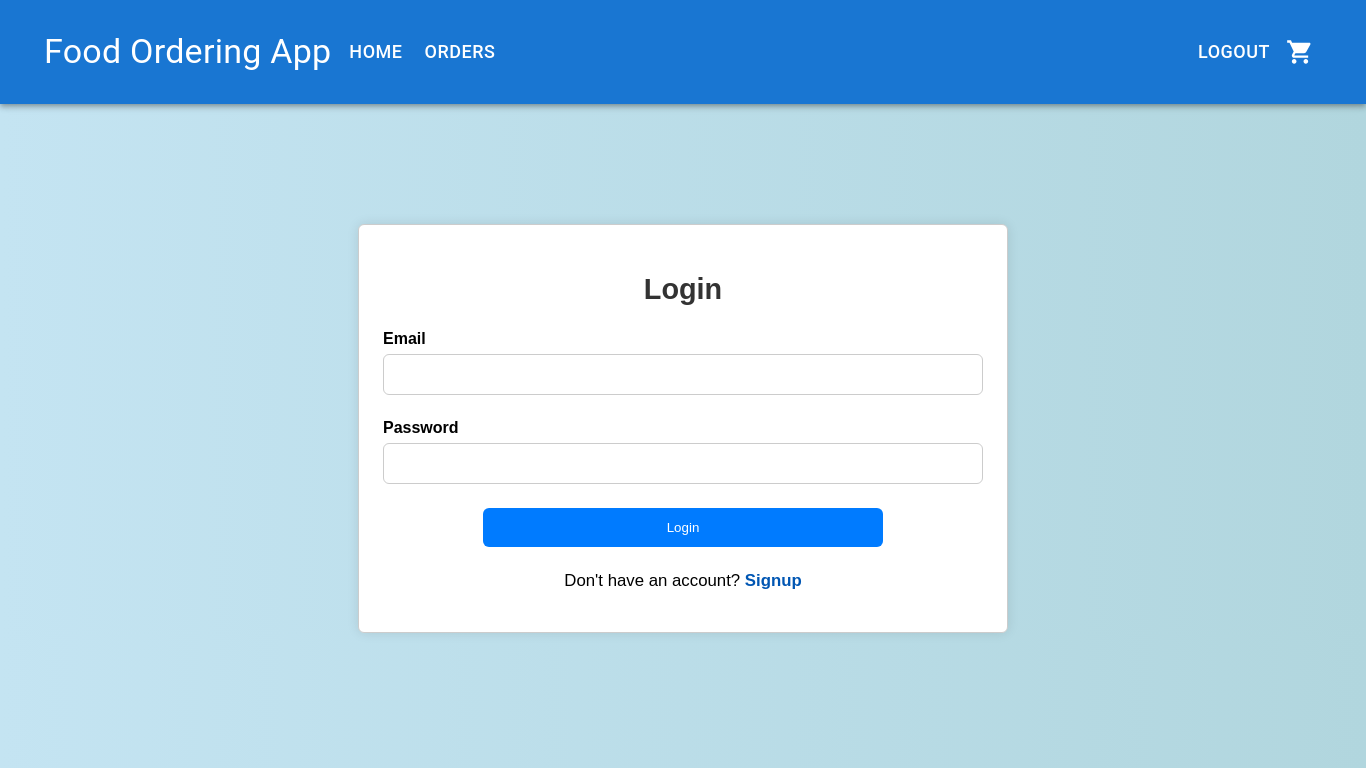
it: Login Component › displays an error message for server error
In the field with test id "email-input": (683, 374) 383,354 -> 983,395, type "test@example.com"
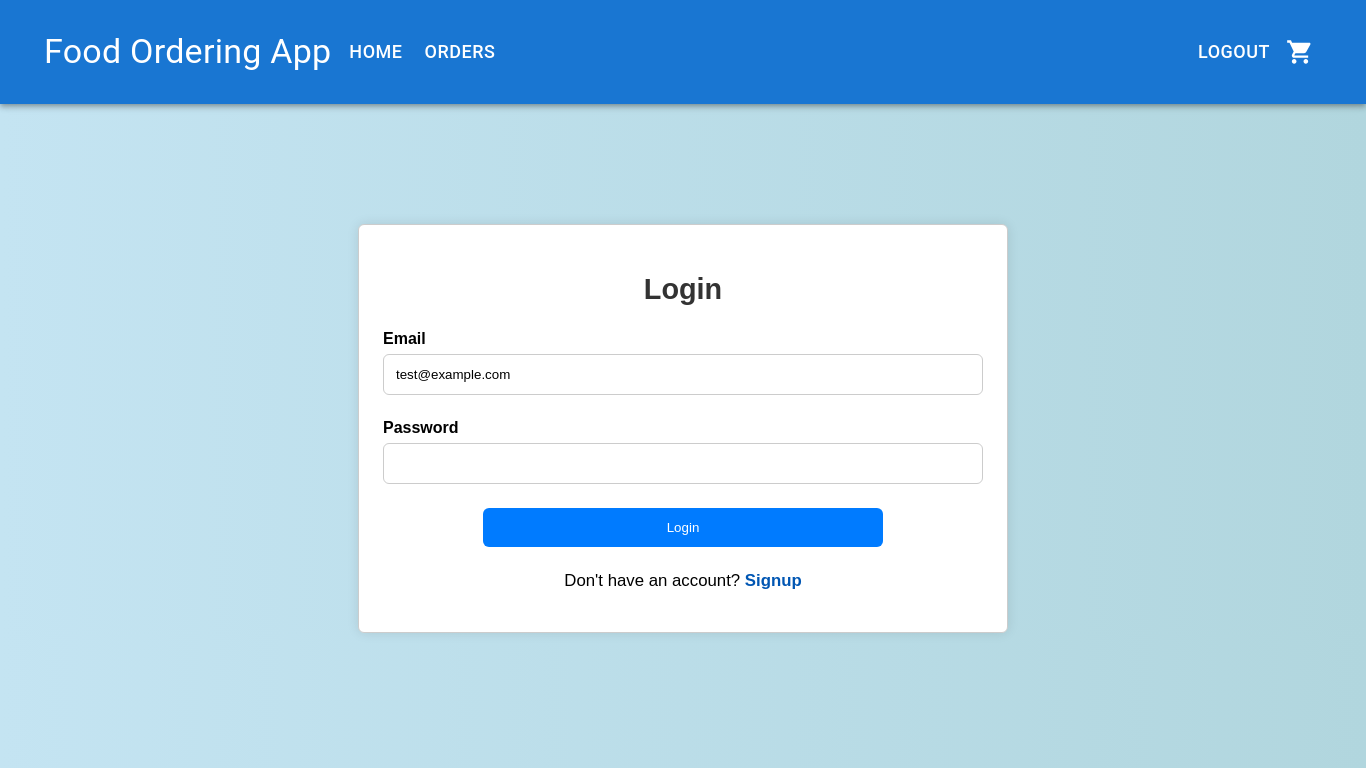
In the password field with test id "password-input": (683, 463) 383,443 -> 983,484, type "password123"
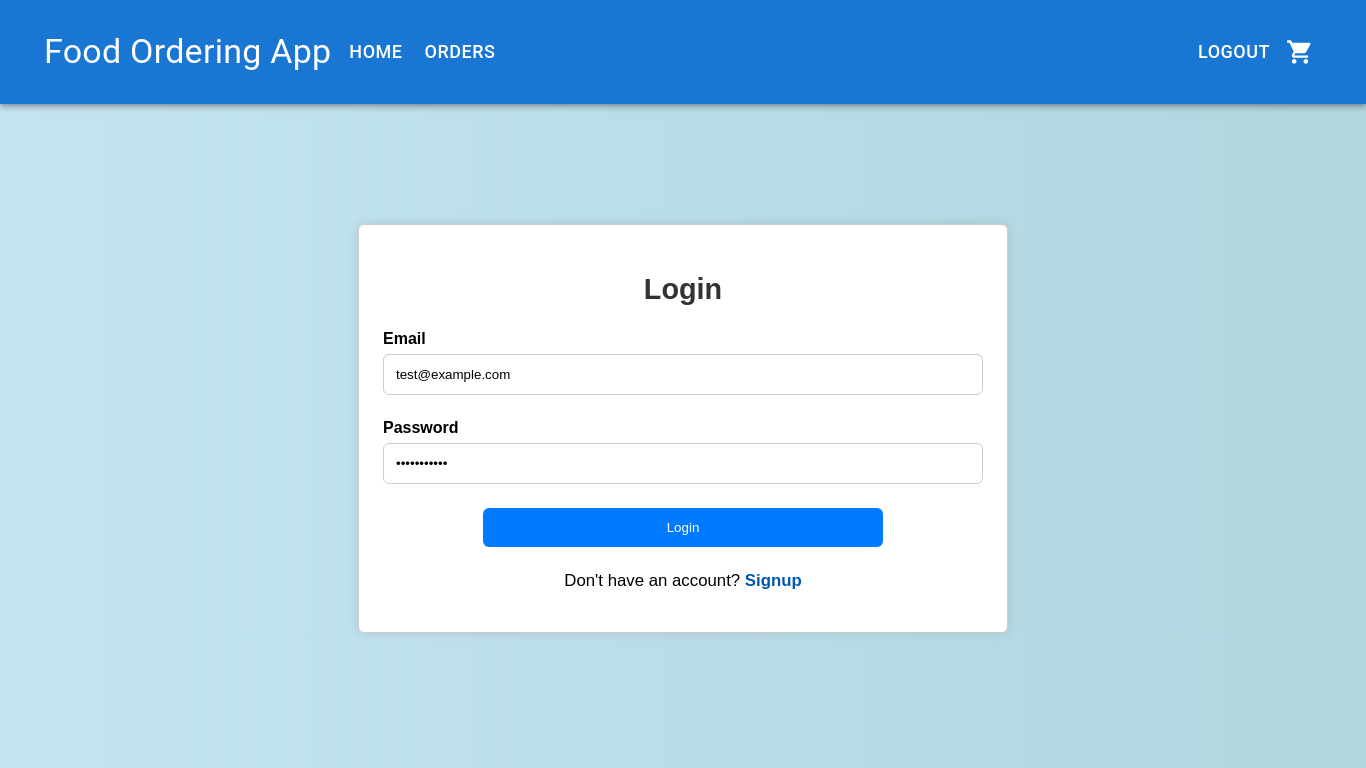
Click the button with test id "login-button": (683, 527) 483,508 -> 883,547
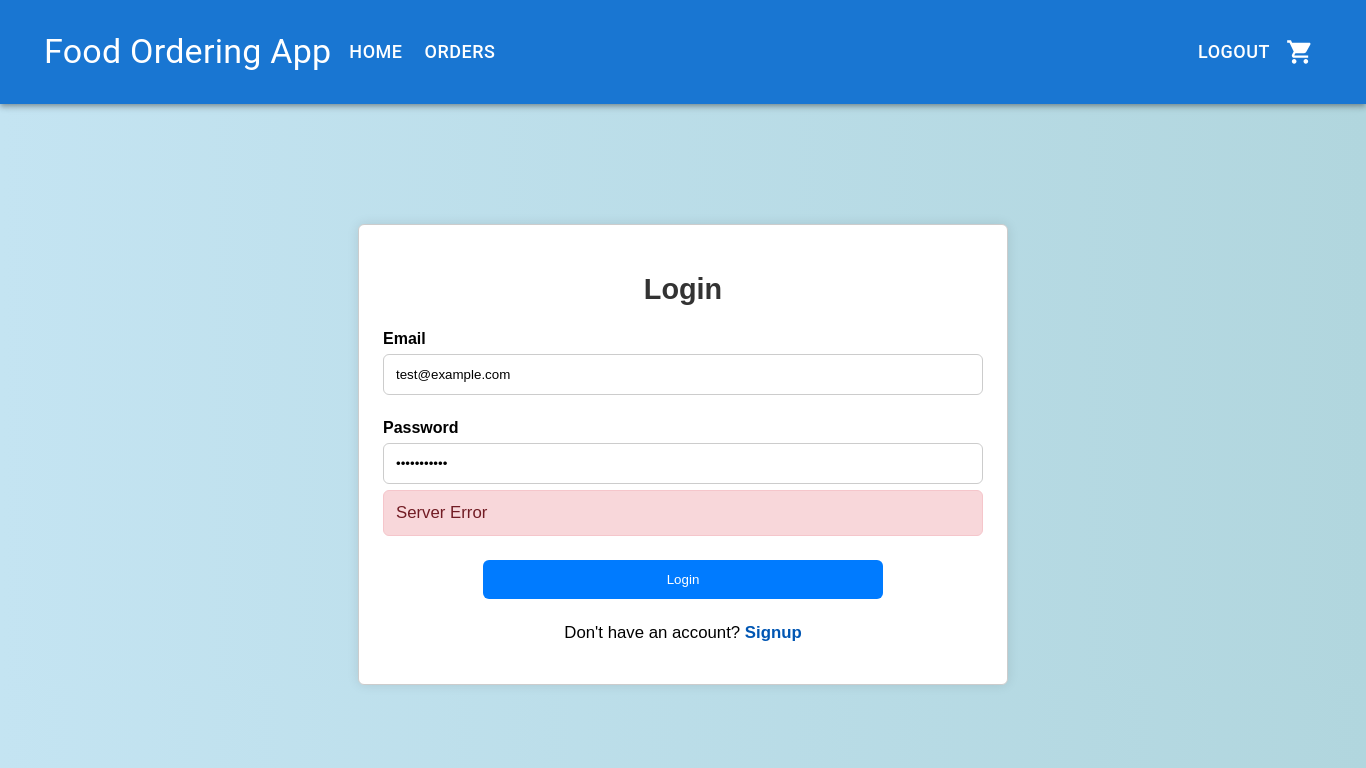
Expected: the text "Server Error" is shown, 383,490 -> 983,536
